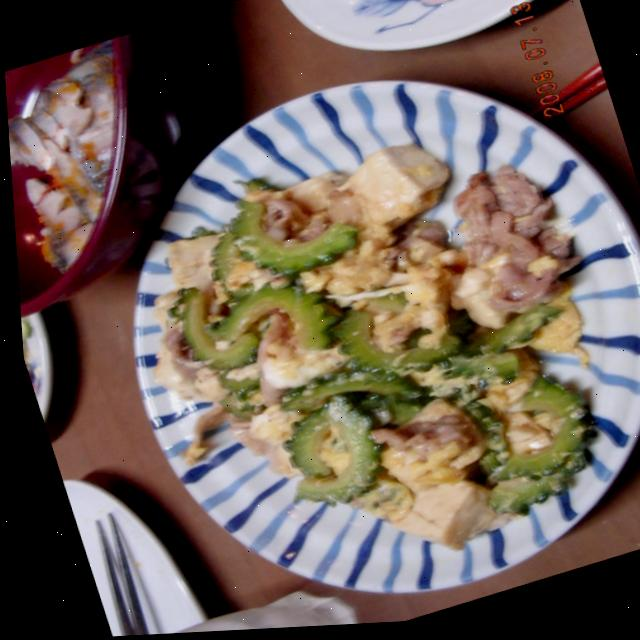熟制海鲜: (46, 6, 640, 638)
